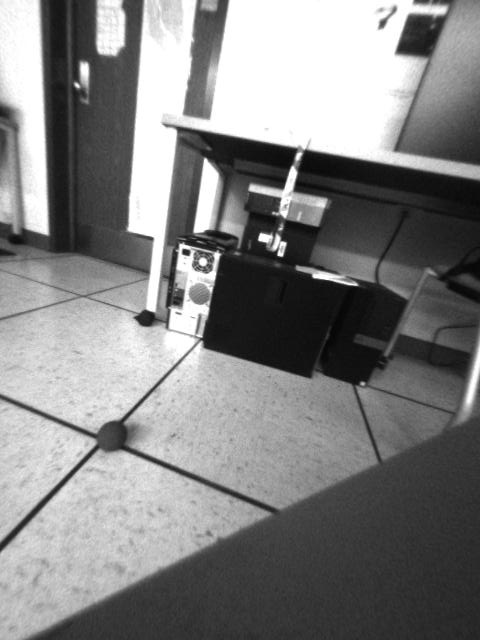dogtoy: (84, 413, 137, 456)
